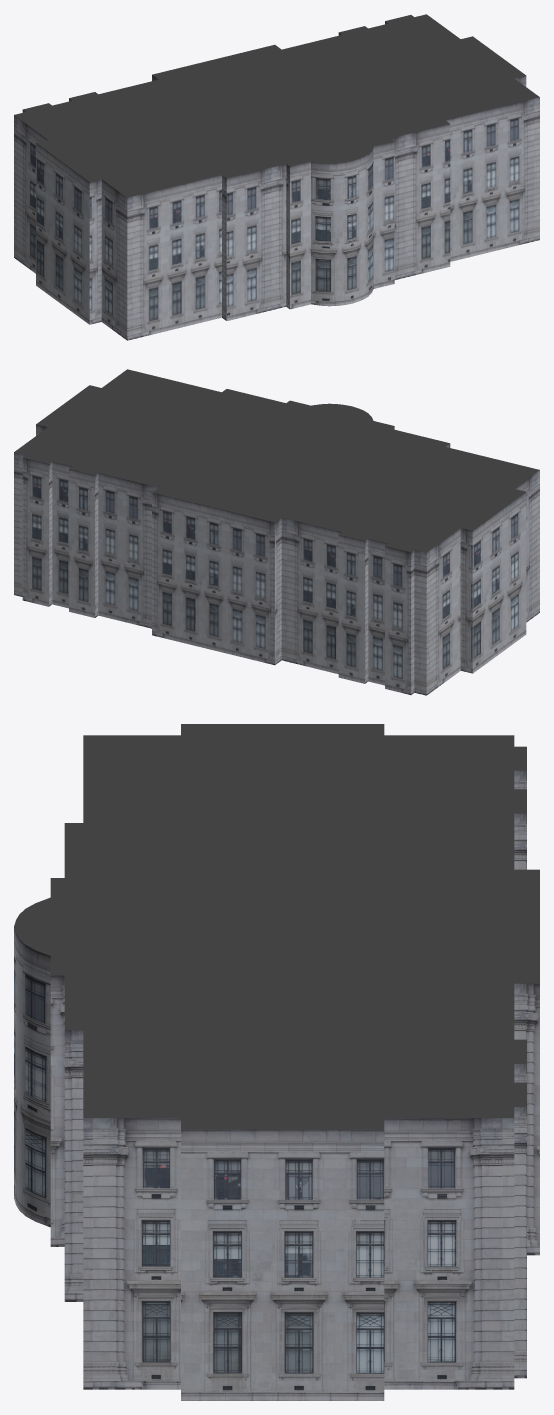
Rendered from BLD-16-TX.FBX.
The picture shows the model from 3 angles, top to bottom: view 1: azimuth 30°, elevation 25°; view 2: azimuth 150°, elevation 25°; view 3: azimuth 270°, elevation 25°; orthographic projection. The views are drawn at different scales.
Parts seen in each view (by area): view 1: BLD-Type-14-001; view 2: BLD-Type-14-001; view 3: BLD-Type-14-001.
Boxes of the visible parts, bbox=[...] form: BLD-Type-14-001: bbox=[14, 14, 539, 340]; BLD-Type-14-001: bbox=[14, 369, 539, 695]; BLD-Type-14-001: bbox=[14, 724, 539, 1400].
Bounding box in the file's own units: 30.56 × 9.55 × 16.77.
